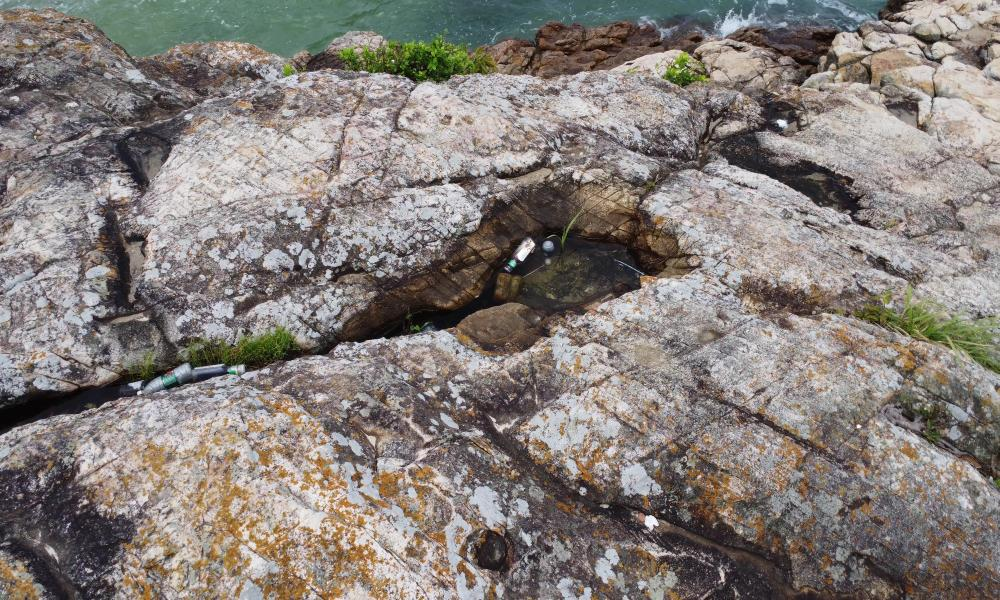plastic bottle: (498, 232, 537, 276)
